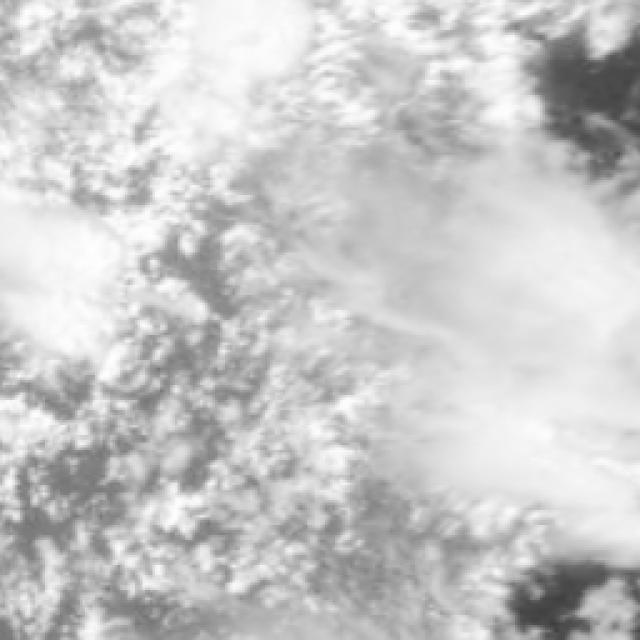CB: (403, 190, 606, 484), (0, 190, 129, 360), (163, 5, 336, 87)
